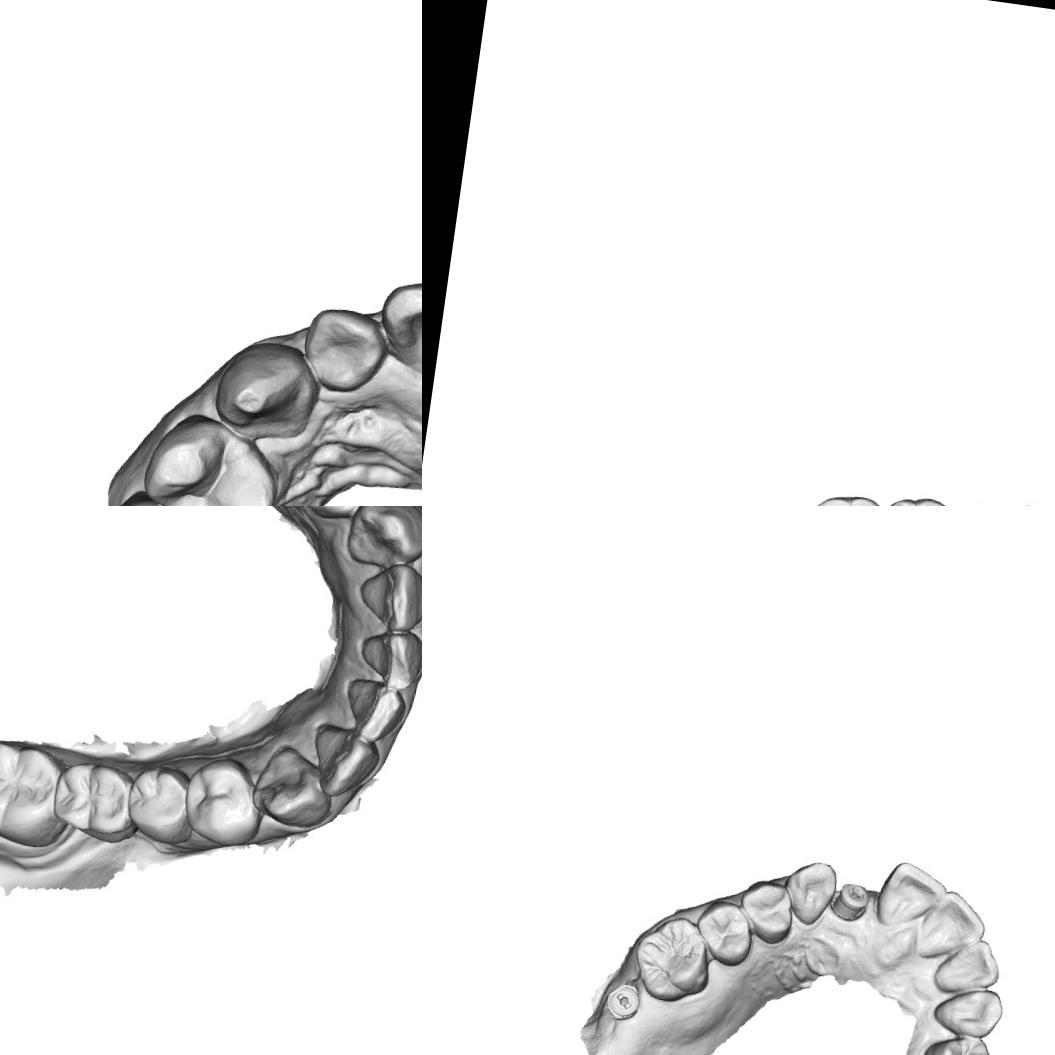canine: (208, 335, 323, 446), (253, 742, 337, 832), (343, 506, 422, 572), (929, 982, 1008, 1042), (780, 856, 839, 929)
implant_minus: (594, 970, 657, 1035), (830, 880, 874, 926)
incisor: (297, 303, 390, 398), (872, 856, 951, 935), (911, 886, 990, 964), (306, 724, 382, 800), (374, 268, 422, 384), (354, 558, 422, 632), (931, 932, 1004, 1000), (338, 669, 406, 738), (357, 621, 422, 687)
molar: (0, 733, 73, 850), (629, 912, 717, 1008), (50, 756, 138, 846), (797, 487, 884, 506)
premolar: (137, 405, 286, 506), (185, 758, 260, 842), (126, 759, 198, 846), (692, 897, 758, 970), (735, 877, 799, 948), (916, 1031, 996, 1055)
